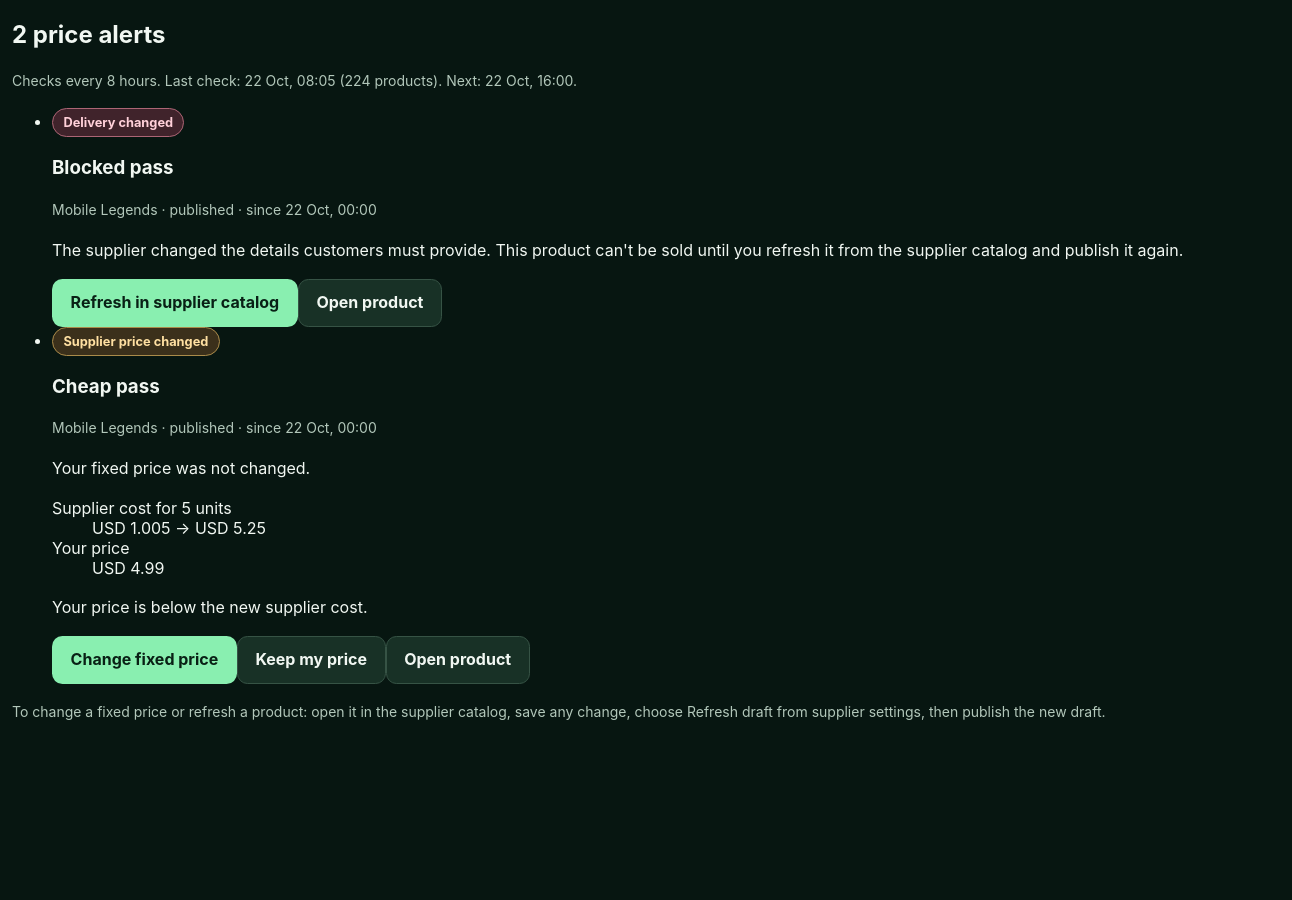
Scenario: explains a stale acknowledgement and offers a reload
The image size is (1292, 900).
Click the button "Keep my price" at (311, 660), box [237,636,386,684]
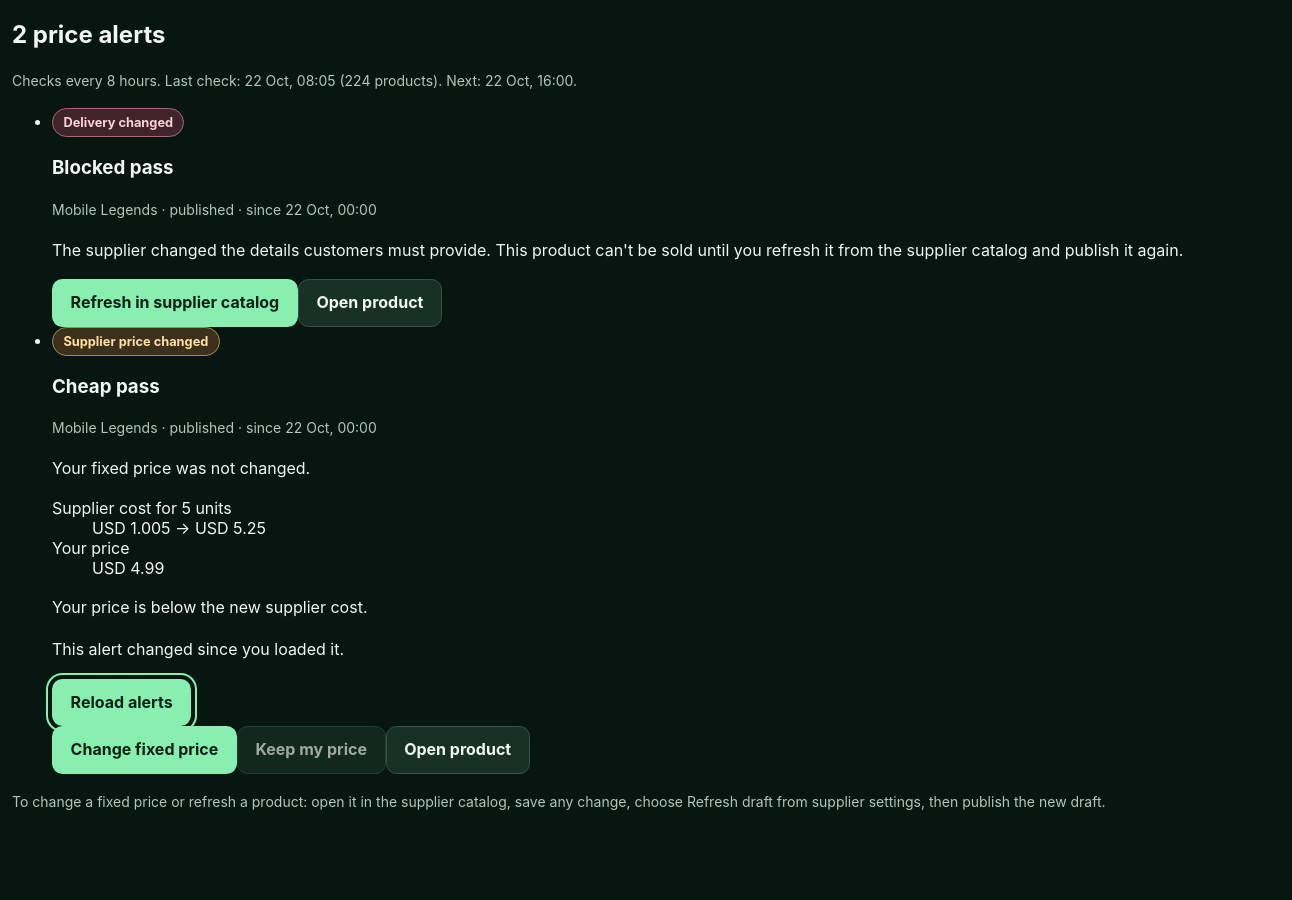
Expected: the text "This alert changed since you loaded it." is shown, [52,639,344,659]
Click the button "Reload alerts" at (122, 702), box [52,678,191,726]
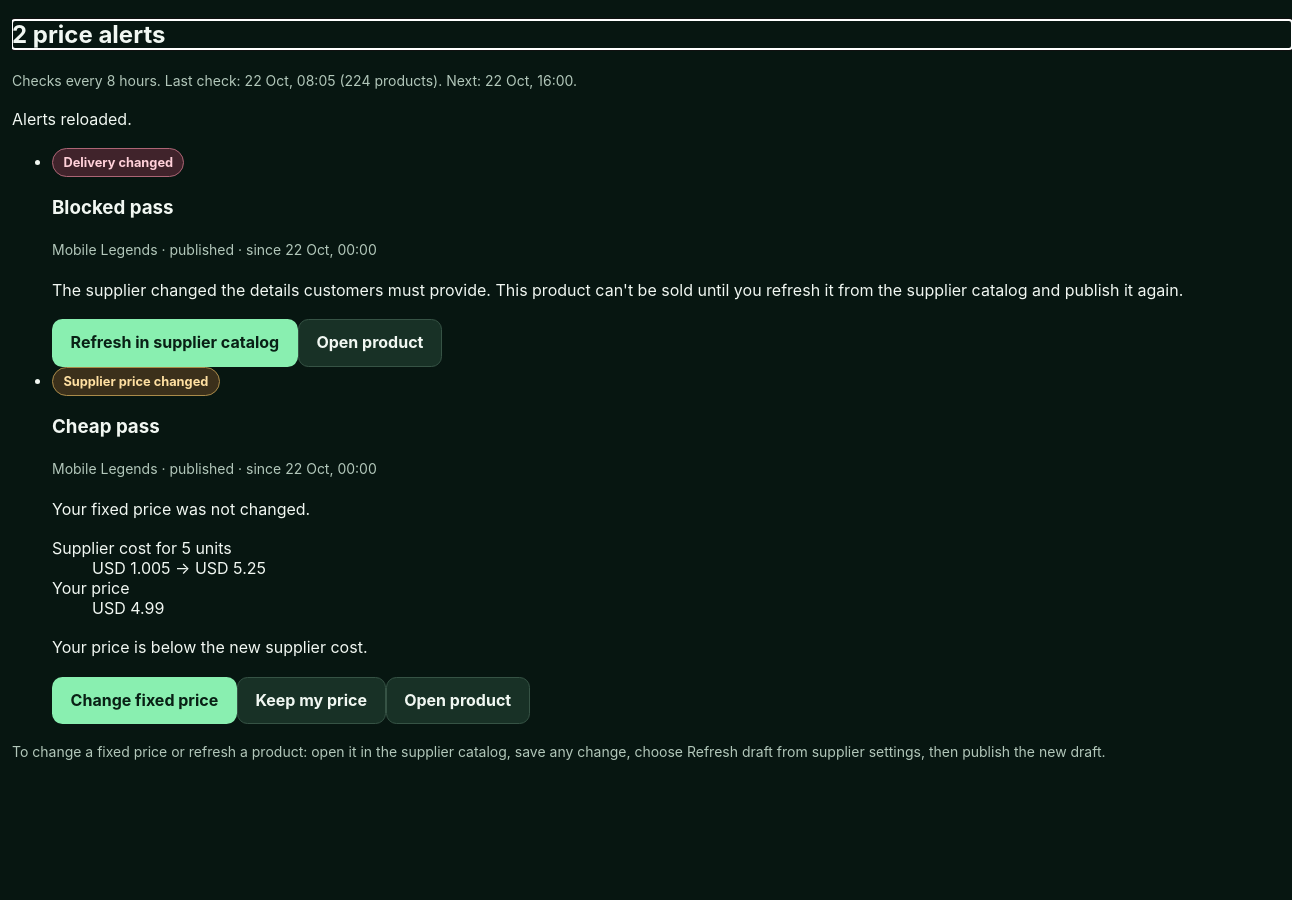
Expected: the text "Alerts reloaded." is shown, [12,109,132,129]
